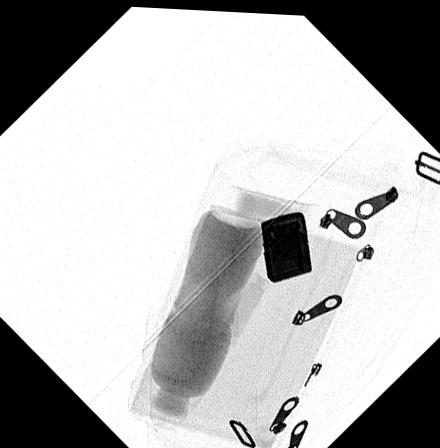Lighter: (261, 207, 312, 278)
